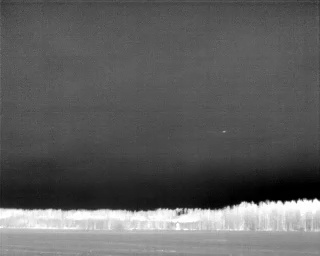AIRPLANE: (219, 127, 229, 137)
